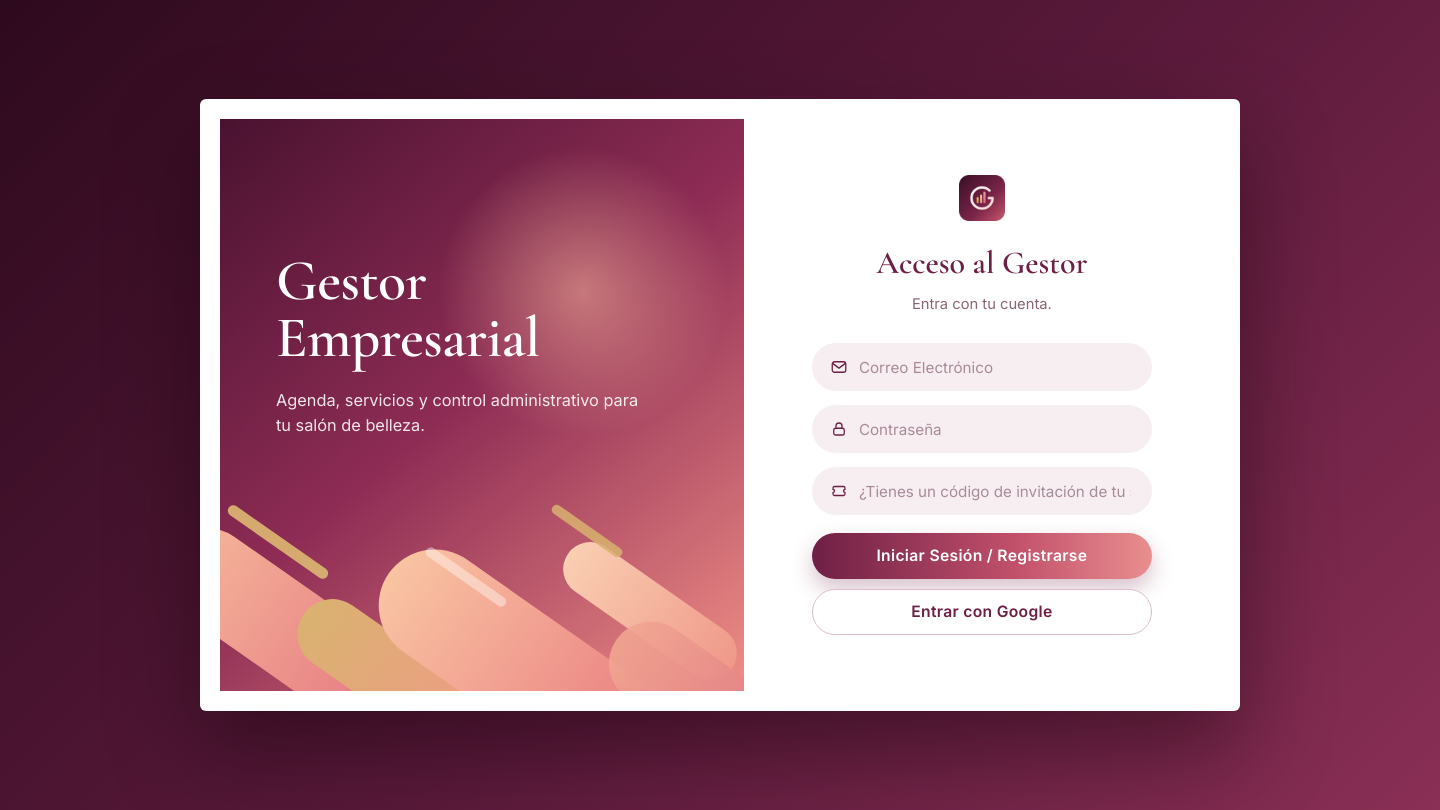
Test: AuthScreen › escribir un código de invitación revela el campo de nombre completo
The image size is (1440, 810).
Type "EMPABC123" into the field labelled "¿Tienes un código de invitación de tu salón? (Opcional)". click: [982, 491]
box: [812, 467, 1152, 515]
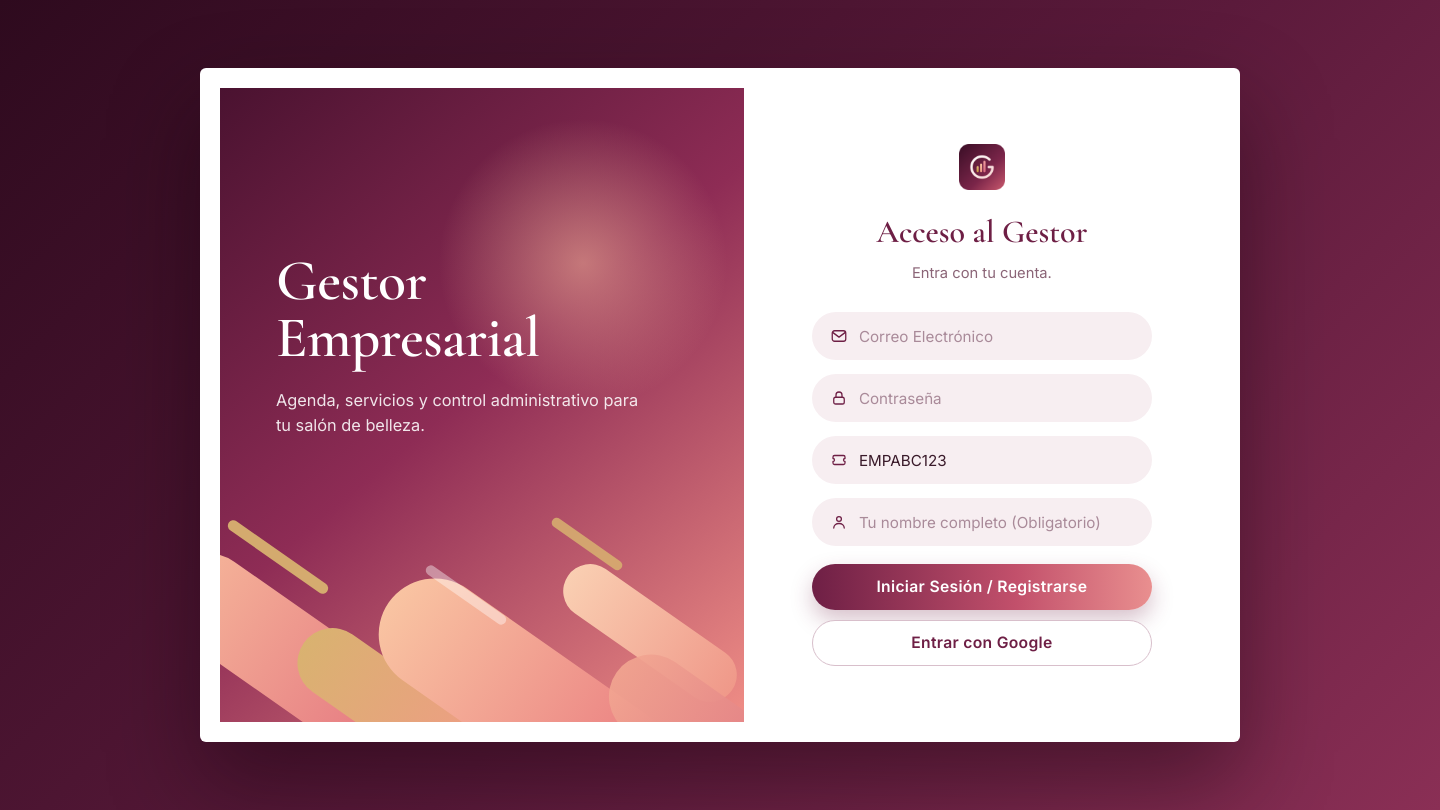
Check: the field labelled "Tu nombre completo (Obligatorio)" is shown, box [812, 498, 1152, 546]
